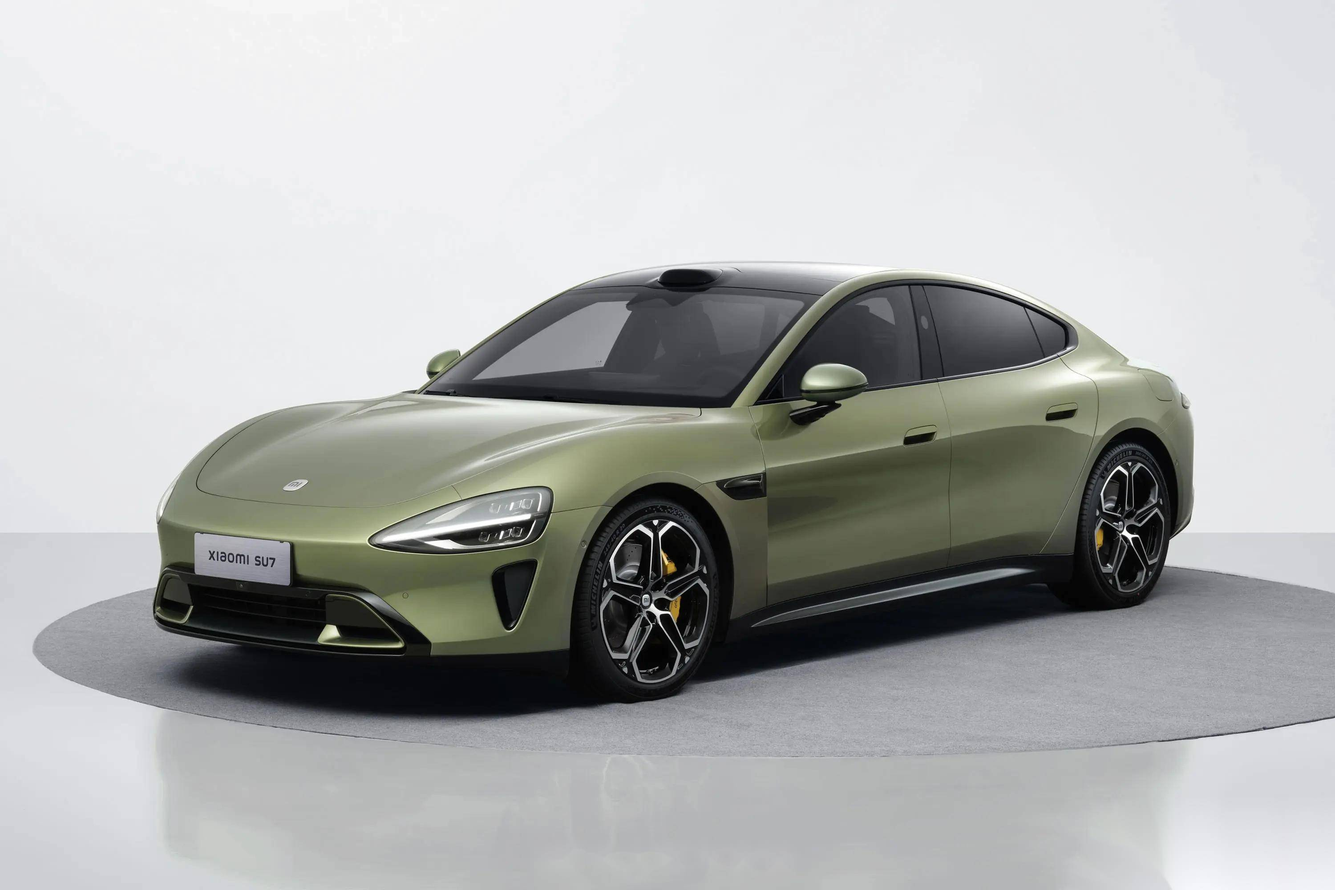su7: (162, 259, 1197, 716)
